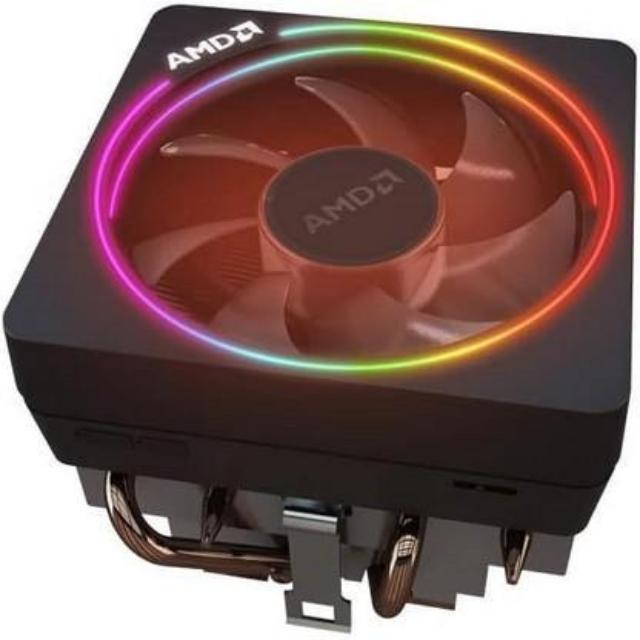CPU_Fan: (6, 8, 632, 617)
